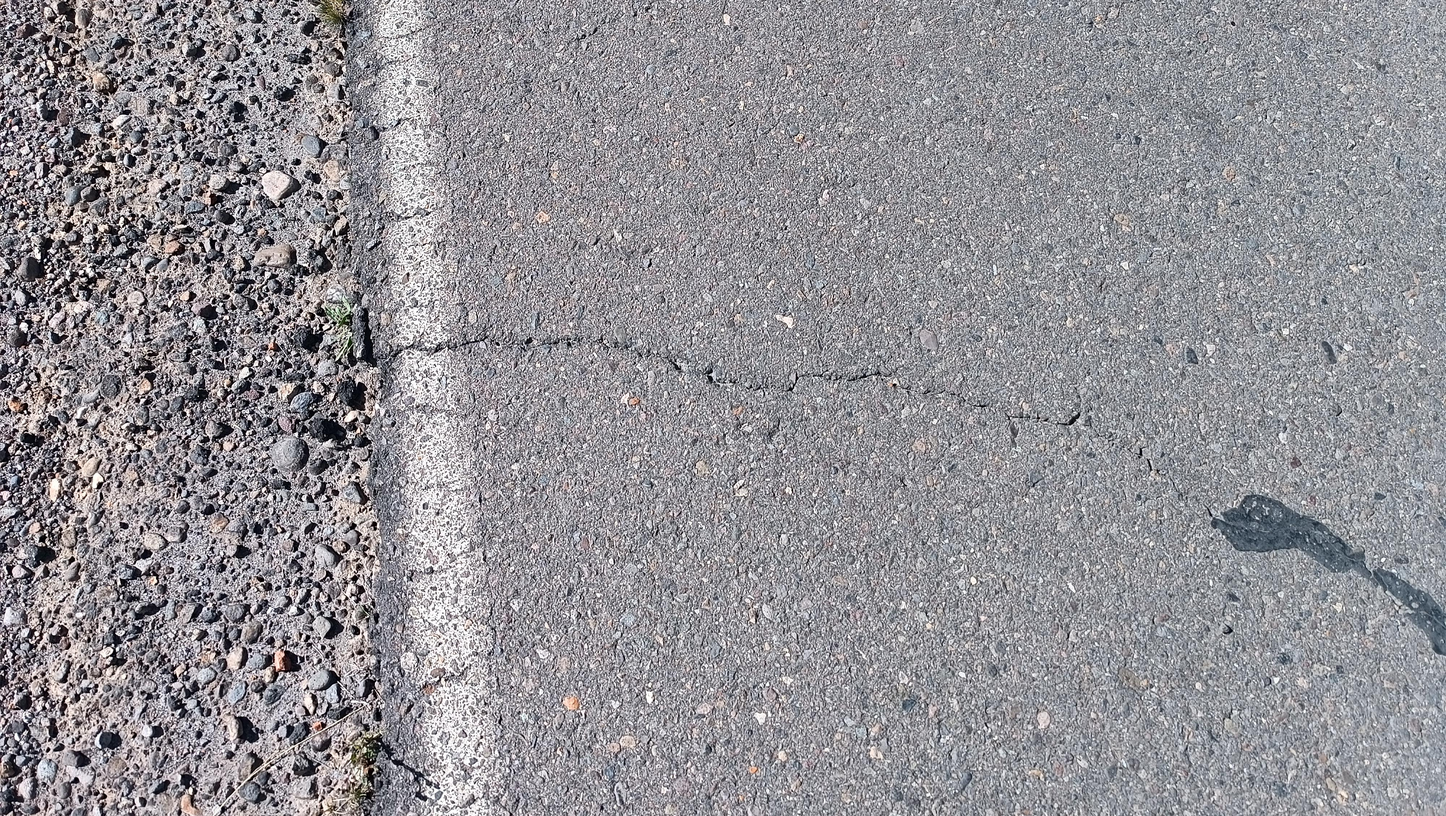GRIETA: (382, 334, 1188, 498)
PARCHE: (1211, 494, 1446, 655)
